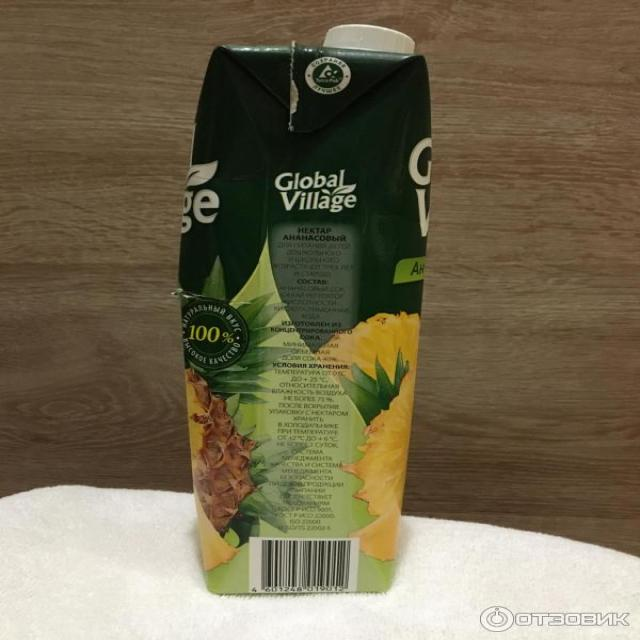Juice Global Village pineapple: (172, 24, 432, 597)
